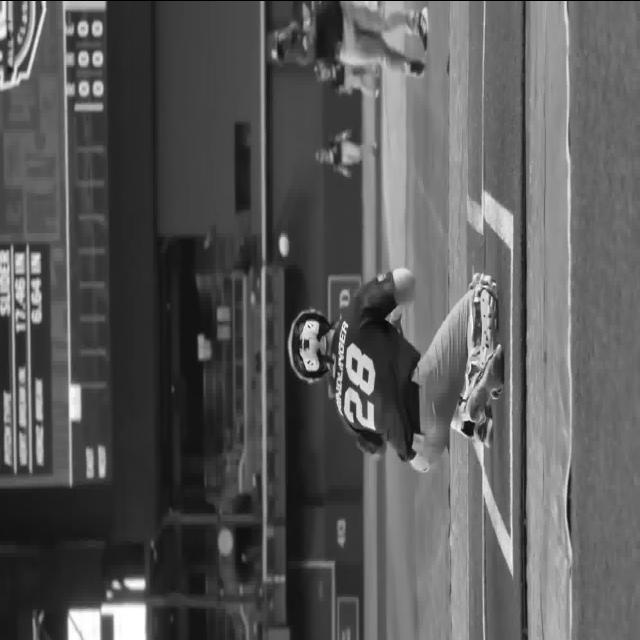baseball: (278, 232, 290, 258)
shoe: (459, 344, 504, 422), (473, 405, 493, 448), (418, 6, 428, 51), (408, 58, 424, 78)
